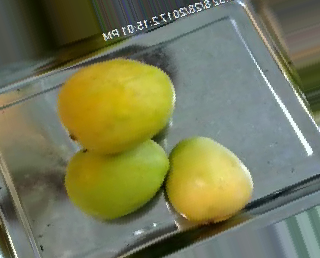Mango: (53, 56, 172, 155), (58, 136, 170, 223), (164, 136, 256, 224)
